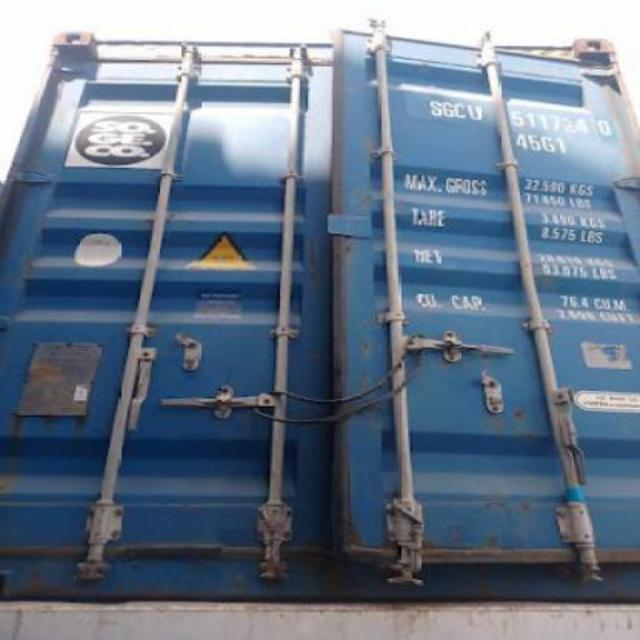0: (596, 118, 616, 138)
1: (536, 111, 552, 132), (524, 110, 538, 132)
2: (562, 117, 576, 135)
4: (576, 115, 592, 138)
5: (508, 110, 526, 126)
7: (548, 113, 562, 131)
C: (454, 100, 468, 120)
G: (442, 100, 456, 118)
S: (426, 99, 442, 117)
U: (466, 104, 486, 120)
